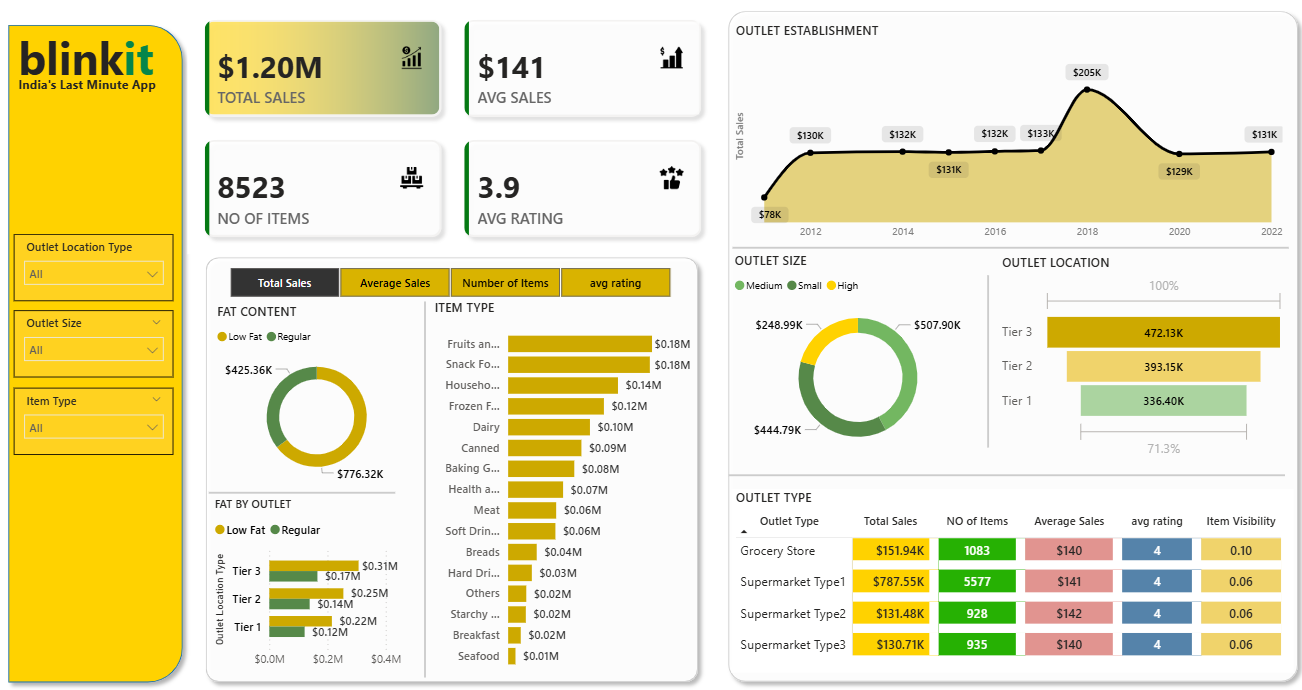

The page's visual inventory and layout, read from the dashboard file:
{"tool":"powerbi","page":{"name":"BLINKIT-DASHBOARD","canvas":[1400,800],"ordinal":0},"visuals":[{"type":"shape","box":[0,29,205,723.2],"z":0},{"type":"textbox","box":[14.7,36.2,205.1,71],"z":1000},{"type":"textbox","box":[14.7,88.5,205.1,65.7],"z":2000},{"type":"cardVisual","fields":{"Data":["BlinkIT Grocery Data.Total Sales","BlinkIT Grocery Data.Average Sales","BlinkIT Grocery Data.Number of Items","BlinkIT Grocery Data.avg rating"]},"box":[200.8,14.7,569.7,269.4],"z":3000},{"type":"shape","box":[212.1,278.8,545.6,473.2],"z":4000},{"type":"donutChart","title":"FAT CONTENT","fields":{"Y":["BlinkIT Grocery Data.Total Sales"],"Category":["BlinkIT Grocery Data.Item Fat Content"]},"box":[228.2,336.5,223.9,199.7],"z":5000},{"type":"slicer","fields":{"Values":["metrics.metrics"]},"box":[221.7,292.5,521.5,44.2],"z":6000},{"type":"clusteredBarChart","title":"FAT BY OUTLET","fields":{"Y":["BlinkIT Grocery Data.Total Sales"],"Category":["BlinkIT Grocery Data.Outlet Location Type"],"Series":["BlinkIT Grocery Data.Item Fat Content"]},"box":[224.9,544.8,223.9,193],"z":7000},{"type":"shape","box":[223.9,517.4,200,45.6],"z":8000},{"type":"shape","box":[442.9,334.9,26.8,403.5],"z":9000},{"type":"barChart","title":"ITEM TYPE","fields":{"Y":["BlinkIT Grocery Data.Total Sales"],"Category":["BlinkIT Grocery Data.Item Type"]},"box":[461.1,332.4,284.7,406.2],"z":10000},{"type":"shape","box":[771.5,15,628.8,737.2],"z":11000},{"type":"lineChart","title":"OUTLET ESTABLISHMENT","fields":{"Y":["BlinkIT Grocery Data.Total Sales"],"Category":["BlinkIT Grocery Data.Outlet Establishment Year"]},"box":[784.5,35.4,596.5,242.6],"z":12000},{"type":"shape","box":[785,254.2,596.5,45.6],"z":13000},{"type":"donutChart","title":"OUTLET SIZE","fields":{"Y":["BlinkIT Grocery Data.Total Sales"],"Category":["BlinkIT Grocery Data.Outlet Size"]},"box":[782.3,282,274.8,225.2],"z":14000},{"type":"shape","box":[1037.5,307,44.2,185],"z":15000},{"type":"funnel","title":"OUTLET LOCATION","fields":{"Y":["Sum(BlinkIT Grocery Data.Sales)"],"Category":["BlinkIT Grocery Data.Outlet Location Type"]},"box":[1069.7,284.2,313.1,223.9],"z":16000},{"type":"shape","box":[781.5,498.9,596.5,45.6],"z":17000},{"type":"pivotTable","title":"OUTLET TYPE","fields":{"Rows":["BlinkIT Grocery Data.Outlet Type"],"Values":["BlinkIT Grocery Data.Total Sales","BlinkIT Grocery Data.Number of Items","BlinkIT Grocery Data.Average Sales","BlinkIT Grocery Data.avg rating","Avg(BlinkIT Grocery Data.Item Visibility)"]},"box":[784.2,536.2,603.2,197.1],"z":18000},{"type":"slicer","fields":{"Values":["BlinkIT Grocery Data.Outlet Location Type"]},"box":[14.7,262.7,171.6,72.4],"z":19000},{"type":"slicer","fields":{"Values":["BlinkIT Grocery Data.Outlet Size"]},"box":[14.7,344.5,171.6,72.4],"z":20000},{"type":"slicer","fields":{"Values":["BlinkIT Grocery Data.Item Type"]},"box":[14.7,427.6,171.6,72.4],"z":21000}]}

Visuals, with their boxes on the page's 1400x800 design canvas (x1, y1, x2, y2). These are canvas units, not pixel positions in the 1302x690 screenshot, which may show the page scaled, cropped or inside an application window:
shape: <region>0, 29, 205, 752</region>
textbox: <region>15, 36, 220, 107</region>
textbox: <region>15, 88, 220, 154</region>
cardVisual - BlinkIT Grocery Data.Total Sales x BlinkIT Grocery Data.Average Sales: <region>201, 15, 770, 284</region>
shape: <region>212, 279, 758, 752</region>
"FAT CONTENT" donutChart: <region>228, 336, 452, 536</region>
slicer - metrics.metrics: <region>222, 292, 743, 337</region>
"FAT BY OUTLET" clusteredBarChart: <region>225, 545, 449, 738</region>
shape: <region>224, 517, 424, 563</region>
shape: <region>443, 335, 470, 738</region>
"ITEM TYPE" barChart: <region>461, 332, 746, 739</region>
shape: <region>772, 15, 1400, 752</region>
"OUTLET ESTABLISHMENT" lineChart: <region>784, 35, 1381, 278</region>
shape: <region>785, 254, 1382, 300</region>
"OUTLET SIZE" donutChart: <region>782, 282, 1057, 507</region>
shape: <region>1038, 307, 1082, 492</region>
"OUTLET LOCATION" funnel: <region>1070, 284, 1383, 508</region>
shape: <region>782, 499, 1378, 544</region>
"OUTLET TYPE" pivotTable: <region>784, 536, 1387, 733</region>
slicer - BlinkIT Grocery Data.Outlet Location Type: <region>15, 263, 186, 335</region>
slicer - BlinkIT Grocery Data.Outlet Size: <region>15, 344, 186, 417</region>
slicer - BlinkIT Grocery Data.Item Type: <region>15, 428, 186, 500</region>
